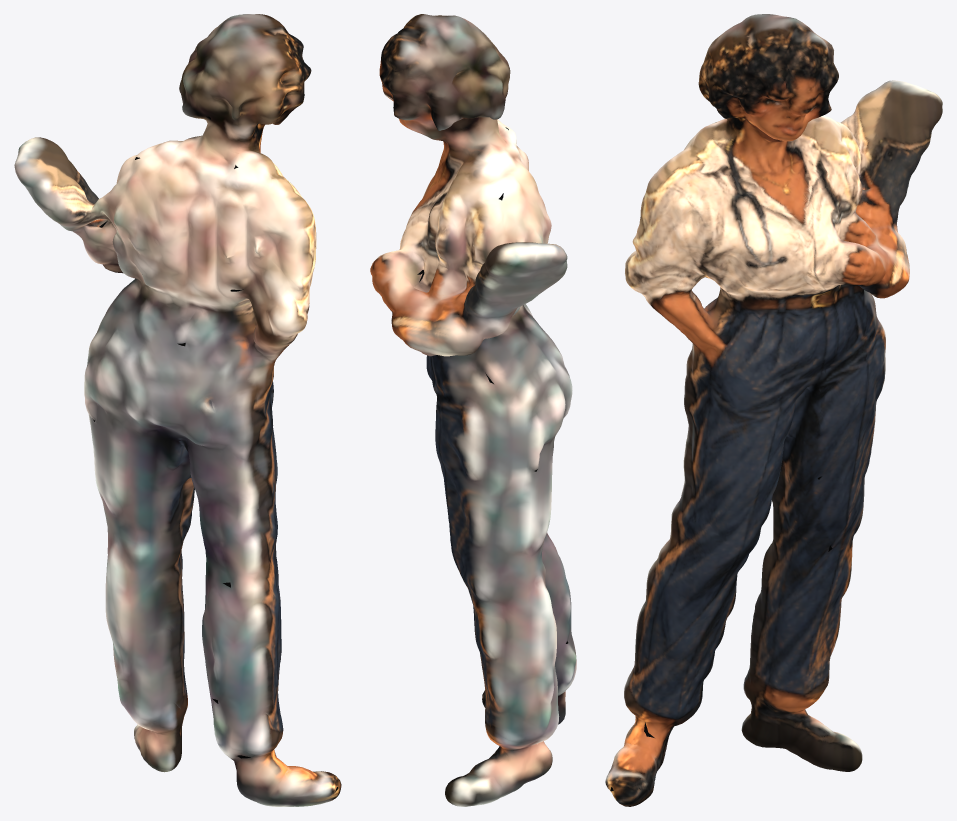
3 renders of one model, left to right at view 1: azimuth 30°, elevation 25°; view 2: azimuth 150°, elevation 25°; view 3: azimuth 270°, elevation 25°, orthographic. The views are drawn at different scales.
Parts seen in each view (by area): view 1: textured; view 2: textured; view 3: textured.
Part boxes in pixels (x1=…): textured: x1=14, y1=14, x2=341, y2=806; textured: x1=370, y1=14, x2=576, y2=806; textured: x1=605, y1=14, x2=942, y2=806.
Bounding box in the file's own units: 0.6509 × 2 × 0.7815.
Materials: 1 (1 with a texture image).
